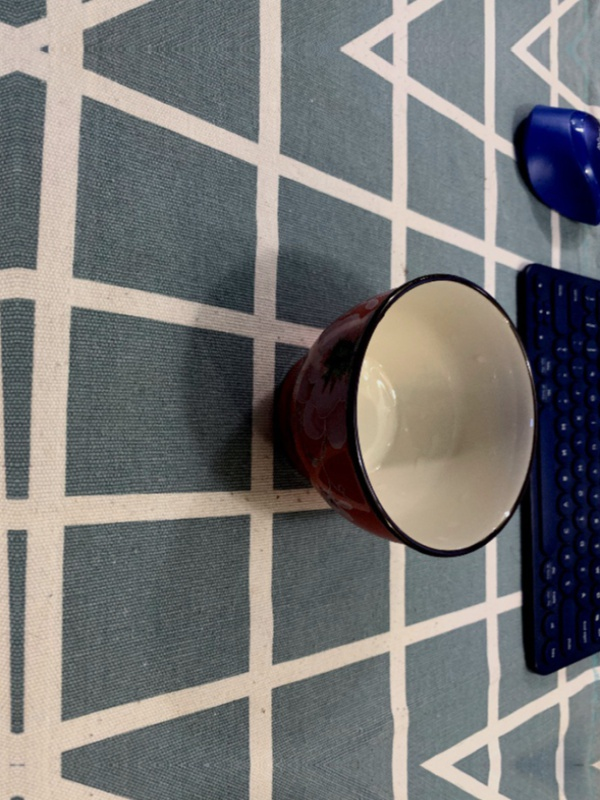bowl_small: (266, 264, 543, 561)
